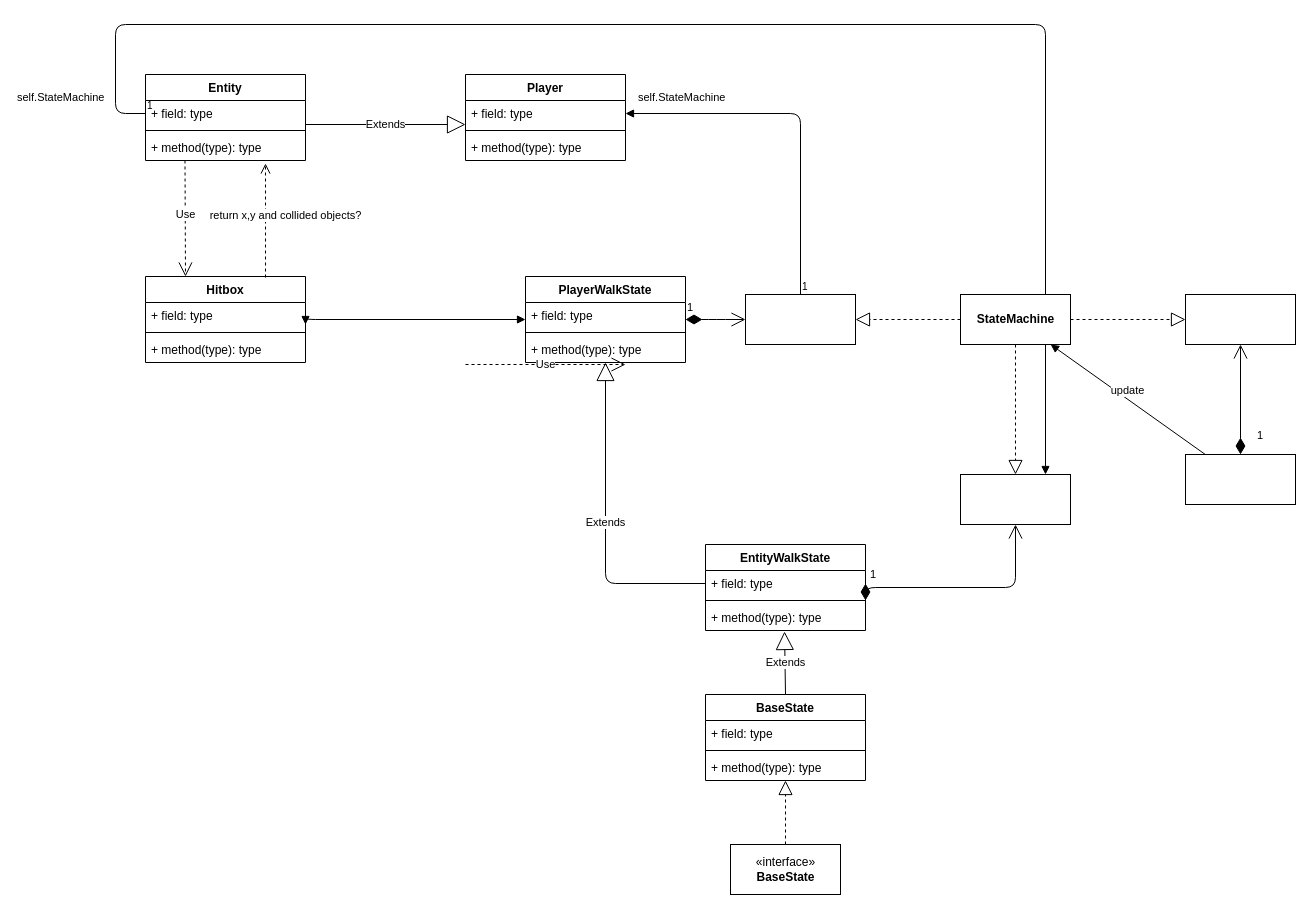
Some shapes in this 1313 by 912 pixel diagram are drawn without their labels. Each missing label, with the centre of its shape:
"EntityStateMachine" goes at (x=1015, y=499).
"gStateMachine" goes at (x=1240, y=319).
"PlayerStateMachine" goes at (x=800, y=319).
"PlayState" goes at (x=1240, y=479).
